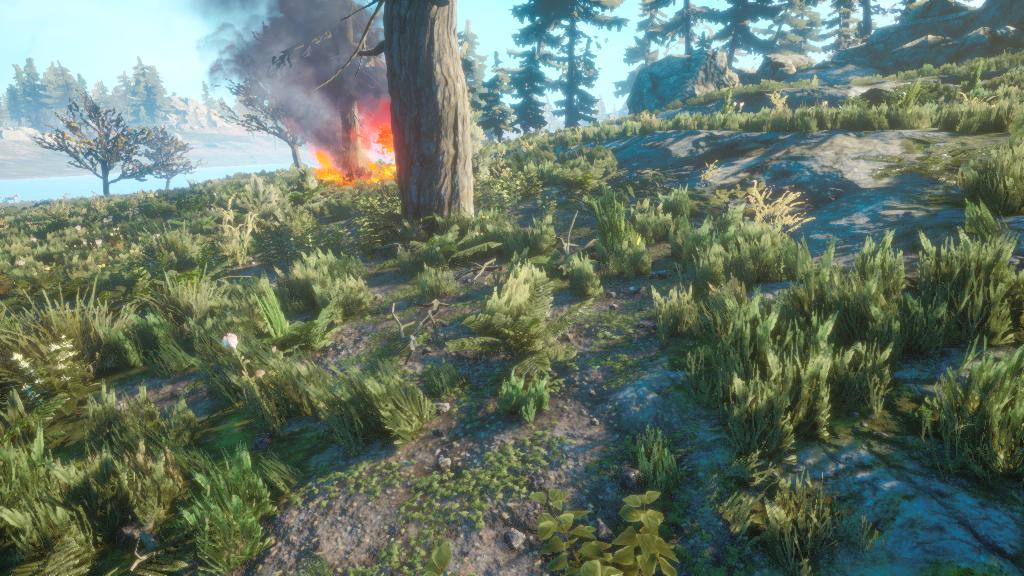Fire: (306, 94, 404, 185)
smoke: (187, 1, 402, 155)
